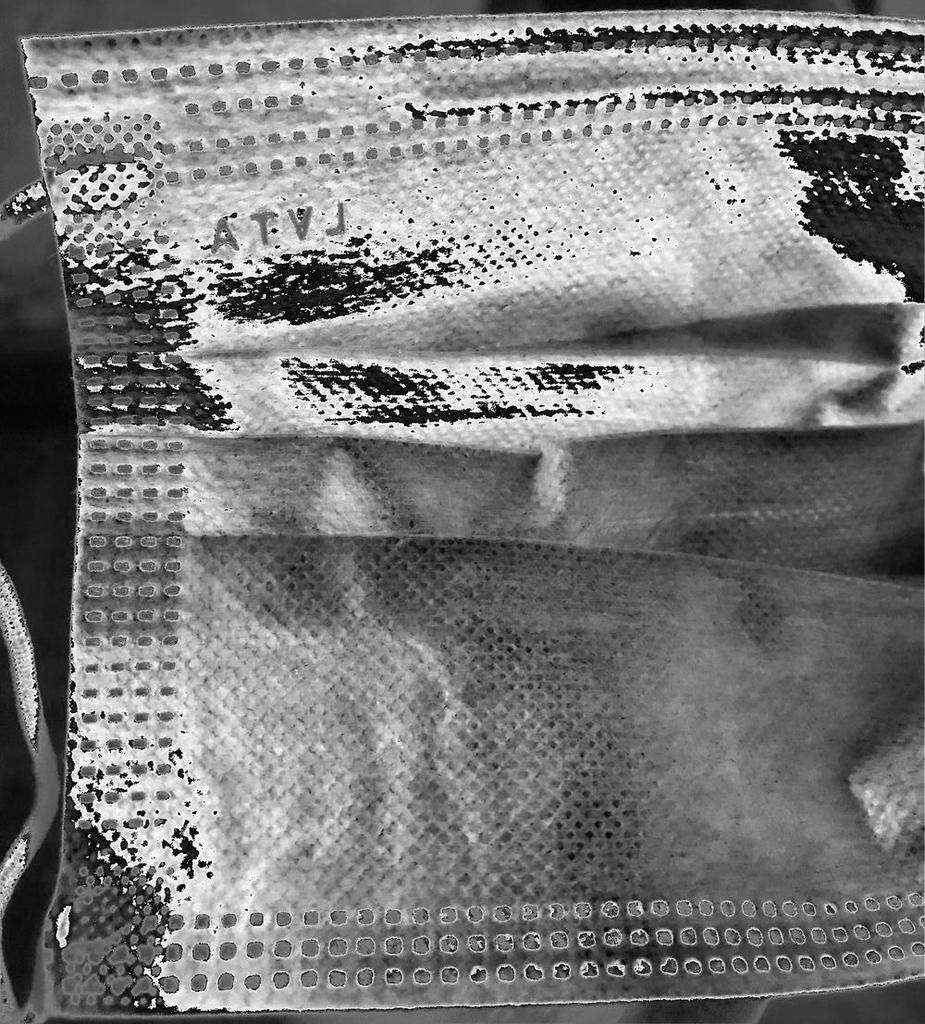High GSM: (8, 7, 925, 1022)
